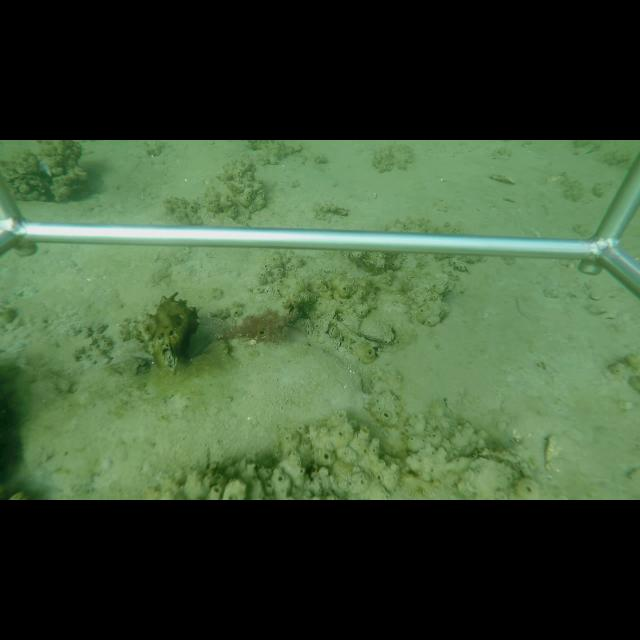Oyster-Closed: (465, 457, 522, 493), (413, 273, 450, 328), (359, 317, 397, 343), (320, 299, 339, 334), (303, 317, 318, 348)
